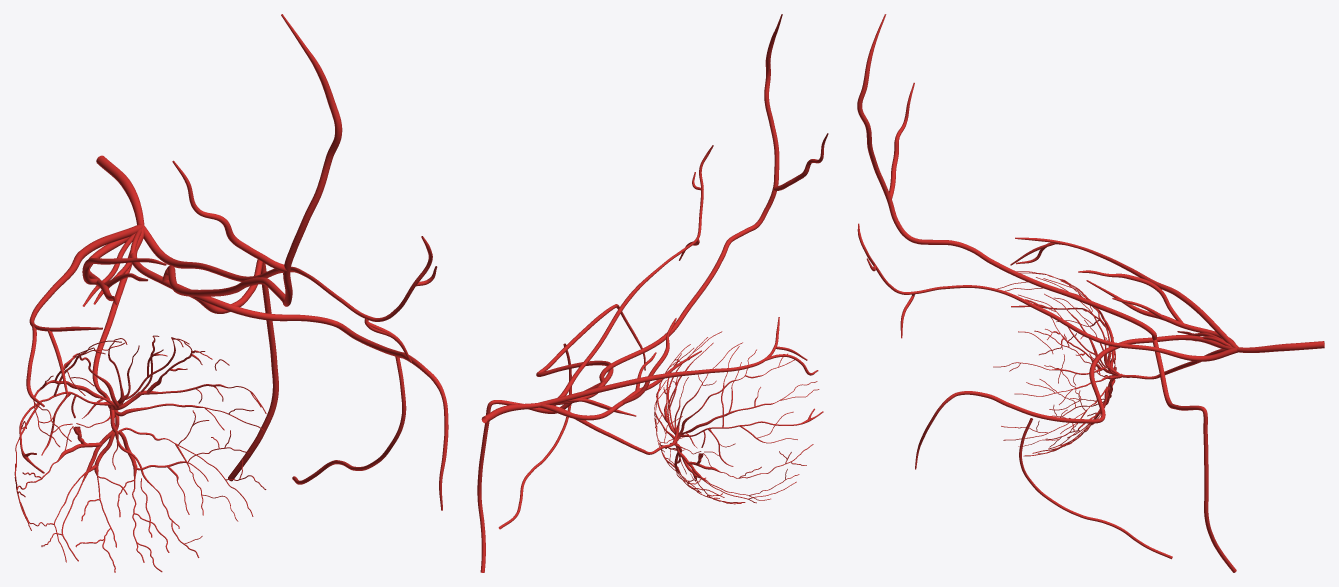
Rendered from circulatorio-ophthalmic-artery-r.glb.
The picture shows the model from 3 angles, left to right: view 1: azimuth 30°, elevation 25°; view 2: azimuth 150°, elevation 25°; view 3: azimuth 270°, elevation 25°; orthographic projection. The views are drawn at different scales.
Visible parts, largest first — view 1: Central retinal artery.r, Supra-orbital artery.r, Supratrochlear artery.r, Lacrimal artery.r, Anterior ethmoidal artery.r, Ophthalmic artery.r, Septal branches of posterior ethmoidal artery.r, Long posterior ciliary arteries.r, Anterior septal branches of anterior ethmoidal artery.r, Short posterior ciliary arteries.r; view 2: Central retinal artery.r, Supra-orbital artery.r, Lacrimal artery.r, Supratrochlear artery.r, Long posterior ciliary arteries.r, Septal branches of posterior ethmoidal artery.r, Anterior ethmoidal artery.r, Ophthalmic artery.r, Anterior septal branches of anterior ethmoidal artery.r; view 3: Central retinal artery.r, Supra-orbital artery.r, Supratrochlear artery.r, Lacrimal artery.r, Ophthalmic artery.r, Anterior ethmoidal artery.r, Long posterior ciliary arteries.r, Septal branches of posterior ethmoidal artery.r, Anterior septal branches of anterior ethmoidal artery.r.
Part boxes in pixels (left/top/right/bottom): Central retinal artery.r: left=14, top=251, right=266, bottom=572; Supra-orbital artery.r: left=162, top=14, right=342, bottom=306; Supratrochlear artery.r: left=143, top=225, right=437, bottom=362; Lacrimal artery.r: left=26, top=224, right=143, bottom=407; Anterior ethmoidal artery.r: left=252, top=311, right=448, bottom=510; Ophthalmic artery.r: left=96, top=155, right=253, bottom=317; Septal branches of posterior ethmoidal artery.r: left=228, top=259, right=278, bottom=481; Long posterior ciliary arteries.r: left=82, top=237, right=166, bottom=305; Anterior septal branches of anterior ethmoidal artery.r: left=292, top=356, right=406, bottom=484; Short posterior ciliary arteries.r: left=82, top=229, right=141, bottom=306; Central retinal artery.r: left=551, top=331, right=823, bottom=504; Supra-orbital artery.r: left=599, top=14, right=828, bottom=382; Lacrimal artery.r: left=540, top=317, right=818, bottom=404; Supratrochlear artery.r: left=539, top=145, right=713, bottom=405; Long posterior ciliary arteries.r: left=540, top=318, right=701, bottom=420; Septal branches of posterior ethmoidal artery.r: left=477, top=400, right=548, bottom=572; Anterior ethmoidal artery.r: left=536, top=304, right=645, bottom=376; Ophthalmic artery.r: left=481, top=360, right=613, bottom=423; Anterior septal branches of anterior ethmoidal artery.r: left=498, top=343, right=571, bottom=529; Central retinal artery.r: left=993, top=271, right=1225, bottom=456; Supra-orbital artery.r: left=857, top=14, right=1156, bottom=340; Supratrochlear artery.r: left=857, top=223, right=1237, bottom=361; Lacrimal artery.r: left=1010, top=237, right=1238, bottom=347; Ophthalmic artery.r: left=1092, top=335, right=1324, bottom=364; Anterior ethmoidal artery.r: left=915, top=362, right=1105, bottom=469; Long posterior ciliary arteries.r: left=1078, top=270, right=1236, bottom=344; Septal branches of posterior ethmoidal artery.r: left=1166, top=398, right=1236, bottom=572; Anterior septal branches of anterior ethmoidal artery.r: left=1019, top=418, right=1172, bottom=559.
Size of the model in its own units: 0.0422 by 0.0746 by 0.0644.
